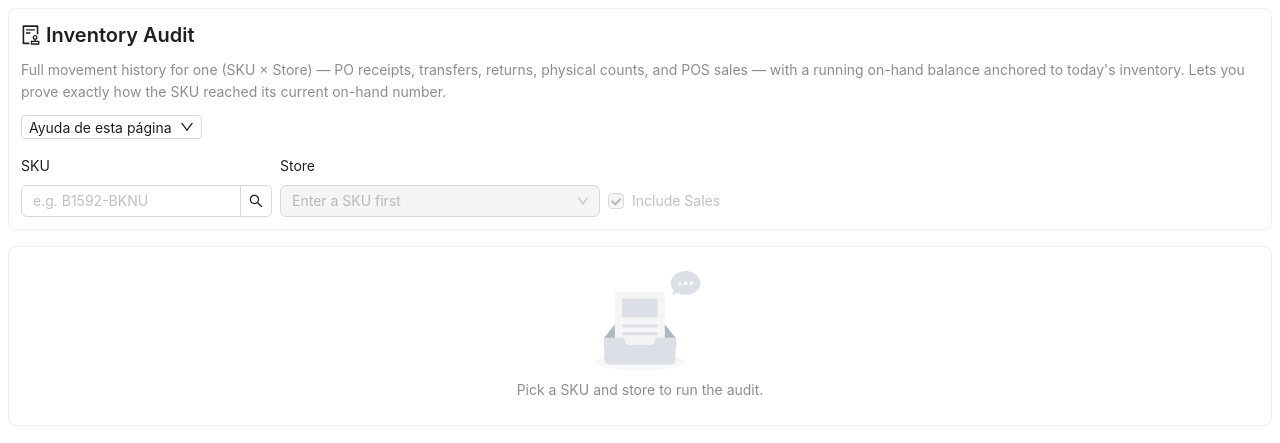
it: InventoryAuditPage › loads store choices from store master after SKU entry even when inquiry has no store rows
Type "NOQTY" into the field with placeholder "e.g. B1592-BKNU".
click(123, 201); type("NOQTY")  # box [33,190,213,212]
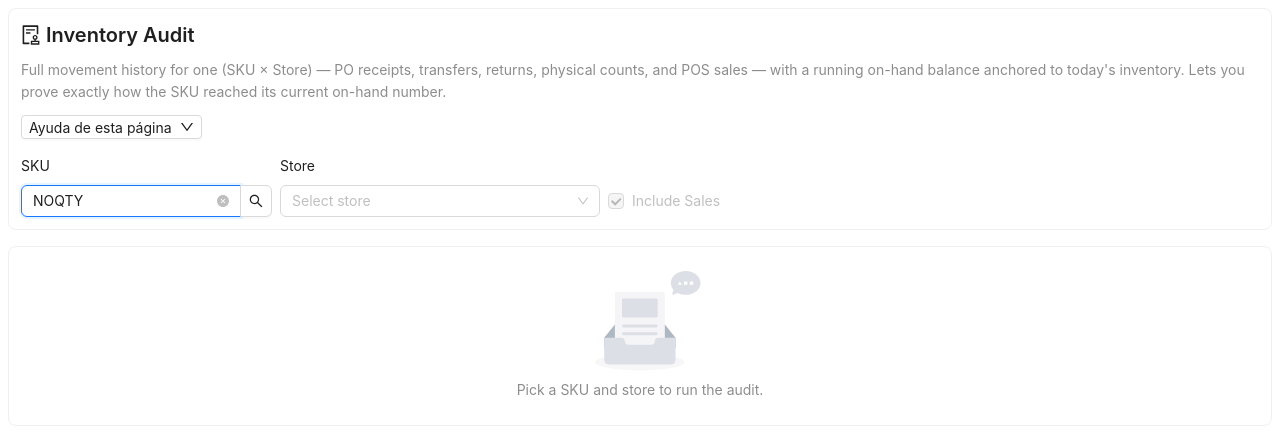
Click the dropdown labelled "Select store".
click(331, 200)  # box [292,192,371,209]
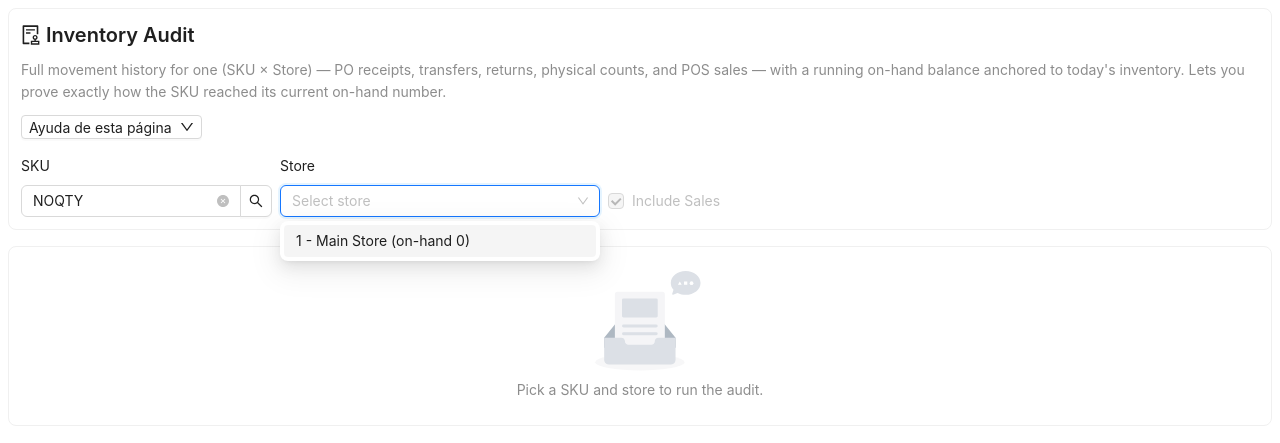
Now the text "1 - Main Store (on-hand 0)" is shown, box [296,232,470,249]
